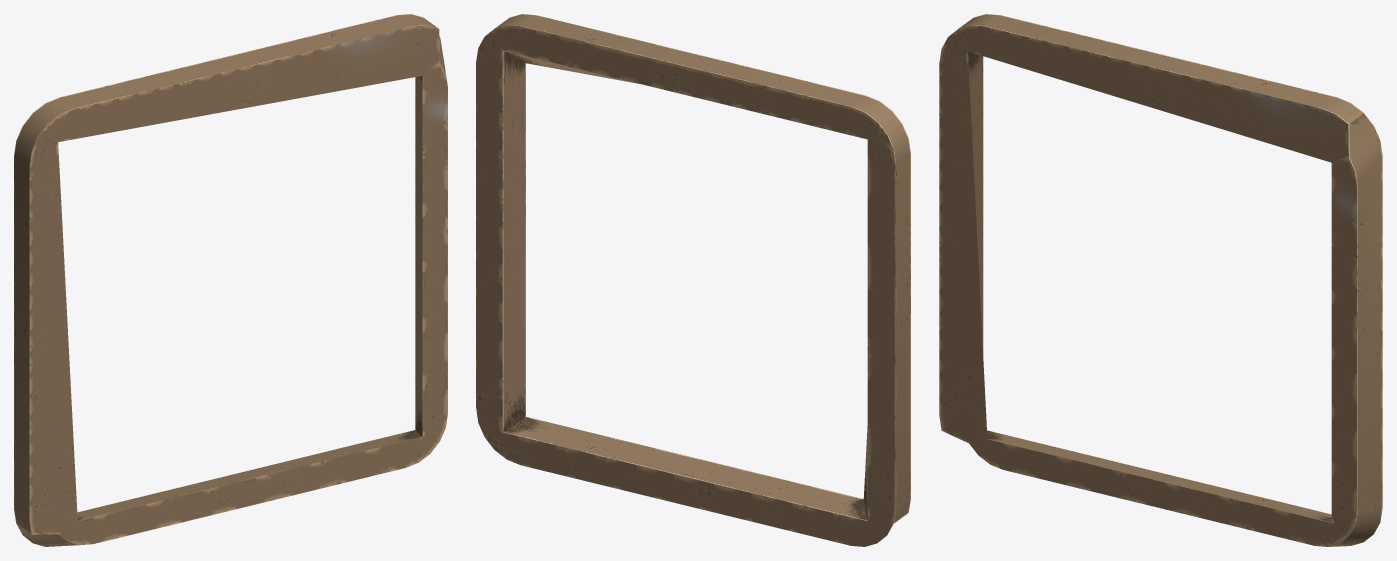
The model's file is frame02.fbx.
3 views of the same model, side by side, from view 1: azimuth 30°, elevation 25°; view 2: azimuth 150°, elevation 25°; view 3: azimuth 330°, elevation 25° (orthographic). The views are drawn at different scales.
Parts seen in each view (by area): view 1: frames.02; view 2: frames.02; view 3: frames.02.
Part boxes in pixels (left/top/right/bottom): frames.02: left=14, top=14, right=447, bottom=546; frames.02: left=476, top=14, right=910, bottom=546; frames.02: left=939, top=14, right=1382, bottom=546.
Bounding box in the file's own units: 200 × 200 × 12.61.
